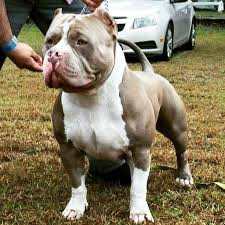Perro Pitbull: (29, 2, 172, 223)
